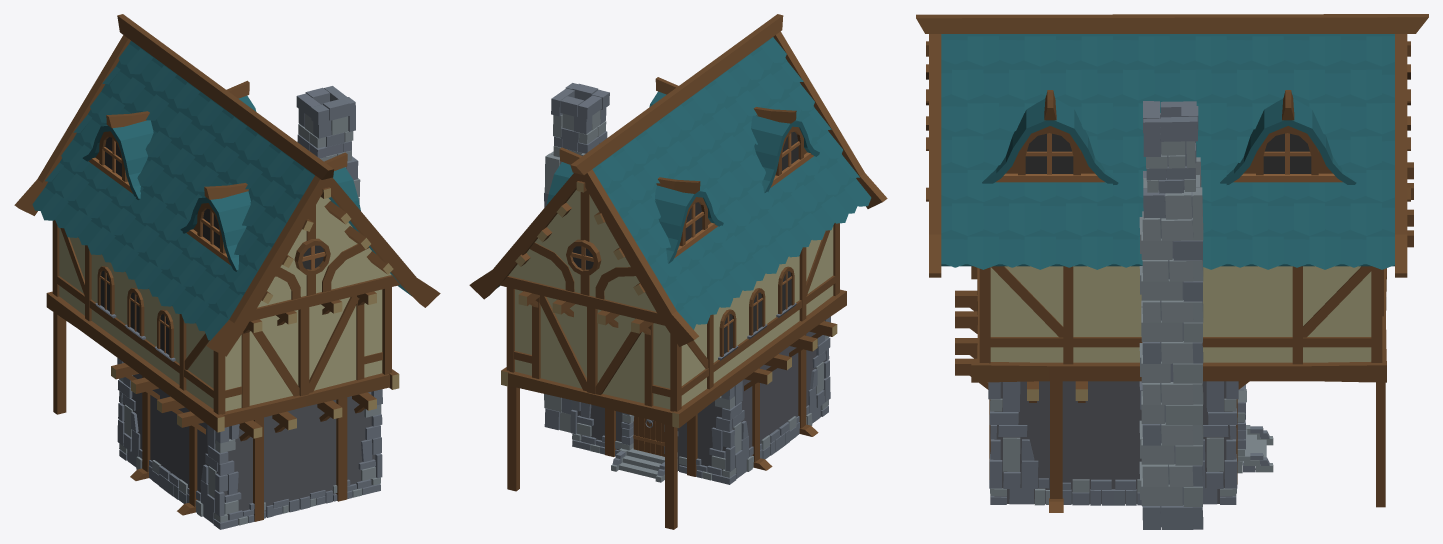
File: house_2.004_lev2.glb
The picture shows the model from 3 angles, left to right: view 1: azimuth 30°, elevation 25°; view 2: azimuth 150°, elevation 25°; view 3: azimuth 270°, elevation 25°; orthographic projection. The views are drawn at different scales.
Parts seen in each view (by area): view 1: house_2.004_lev2; view 2: house_2.004_lev2; view 3: house_2.004_lev2.
Boxes of the visible parts, x1=… form: house_2.004_lev2: x1=14, y1=14, x2=440, y2=529; house_2.004_lev2: x1=469, y1=14, x2=887, y2=529; house_2.004_lev2: x1=916, y1=14, x2=1428, y2=529.
Bounding box in the file's own units: 4.44 × 6.5 × 6.84.
